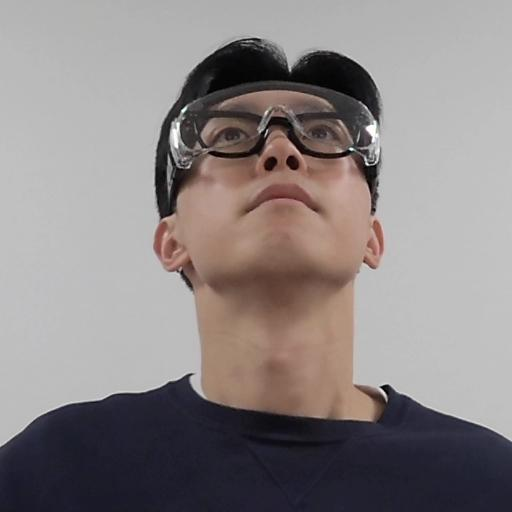glasses: (141, 33, 399, 317)
